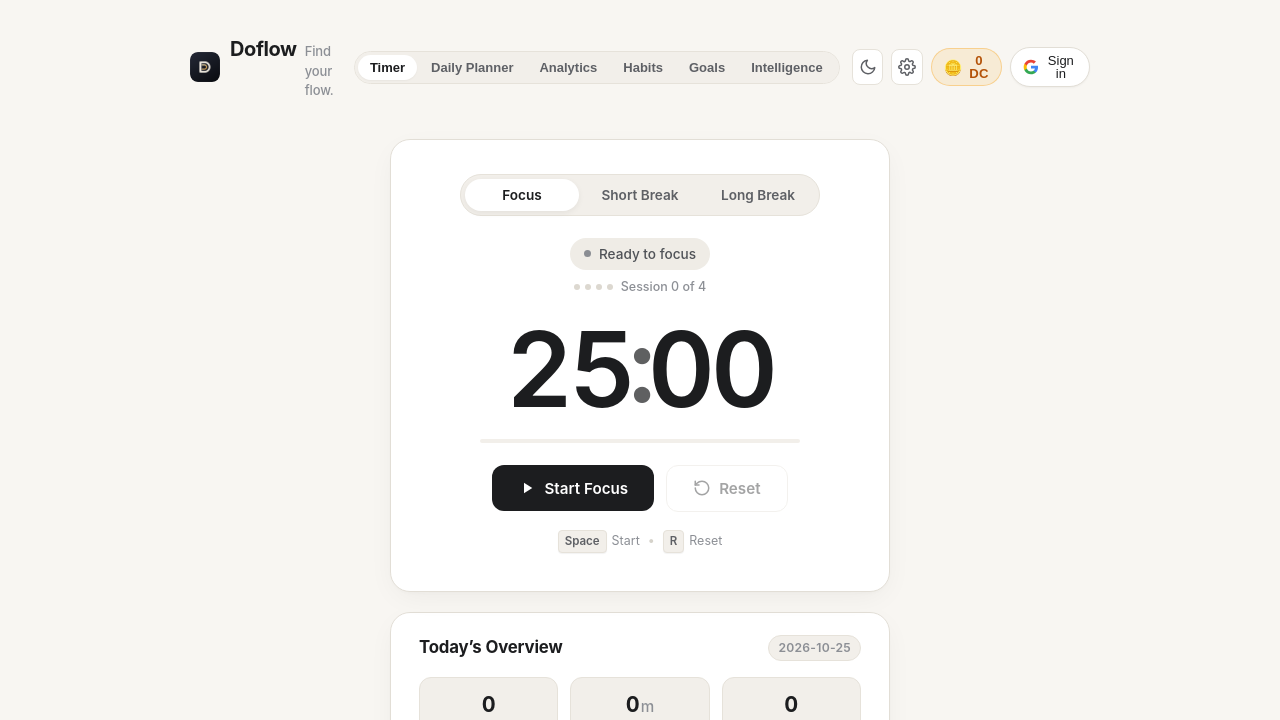
Test case: Doflow Comprehensive Integration & Regression Audit Suite › 2. verifies timer mode change confirmation prevents accidental loss during running sessions
// Start timer
Click the button with test id "start-button" at x=573, y=488, box [492,465,654,511]
Wait 5000 ms
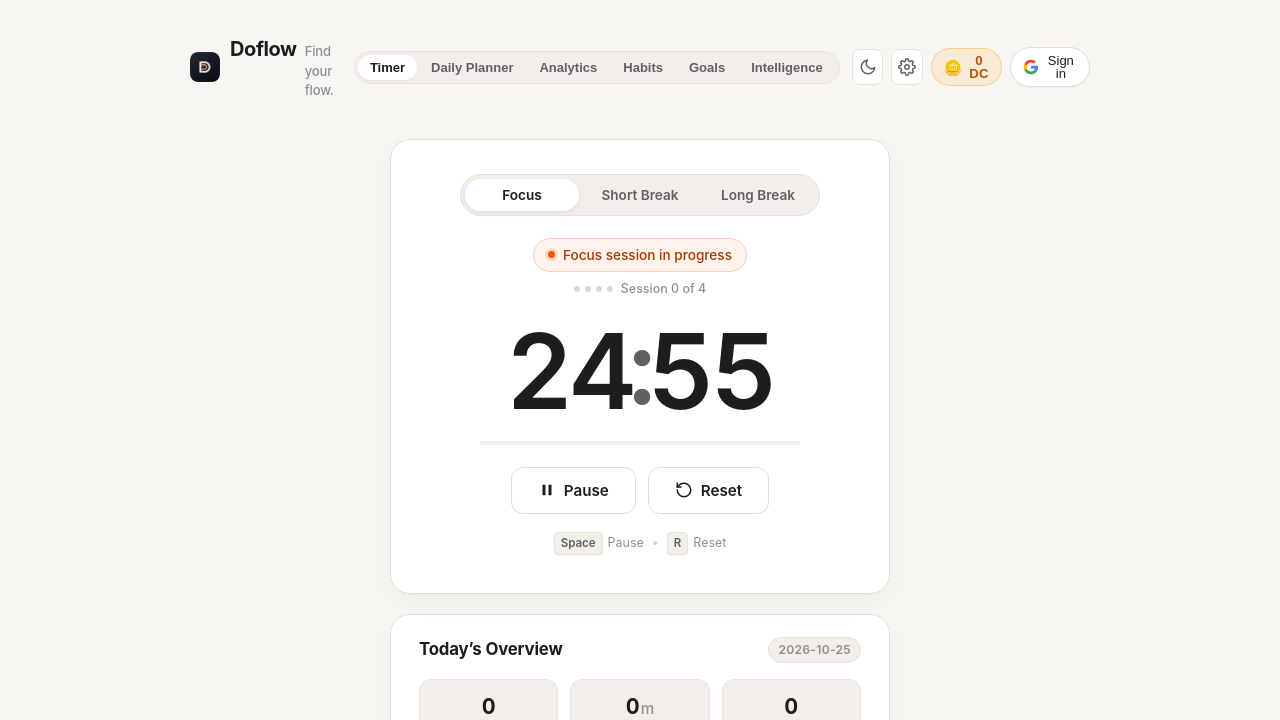
Expected: the element with test id "countdown-display" reads "24 : 55", [506,319,774,423]
// Try to switch to Short Break while running
Click the tab with test id "mode-tab-shortBreak" at x=640, y=194, box [583,178,697,210]
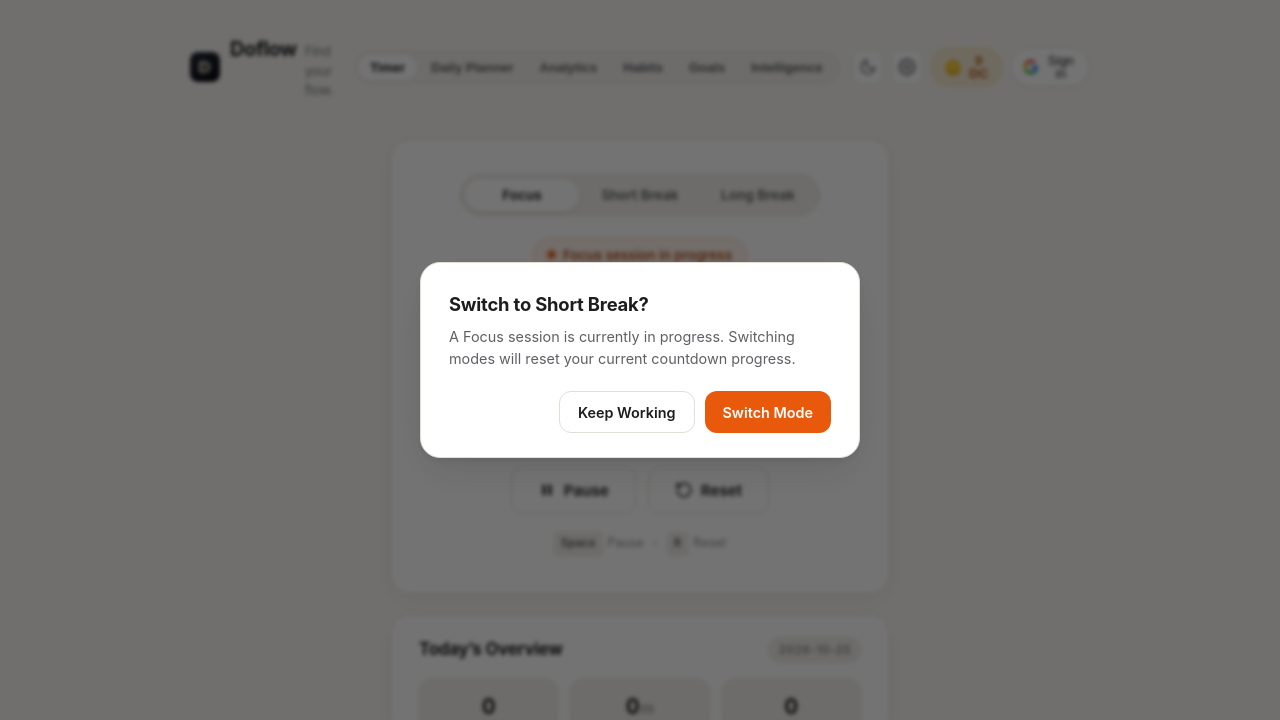
Expected: the element with test id "confirm-switch-modal" is shown
// Cancel switch - countdown continues untouched
Click the button with test id "cancel-switch-button" at x=627, y=412, box [559,391,694,433]
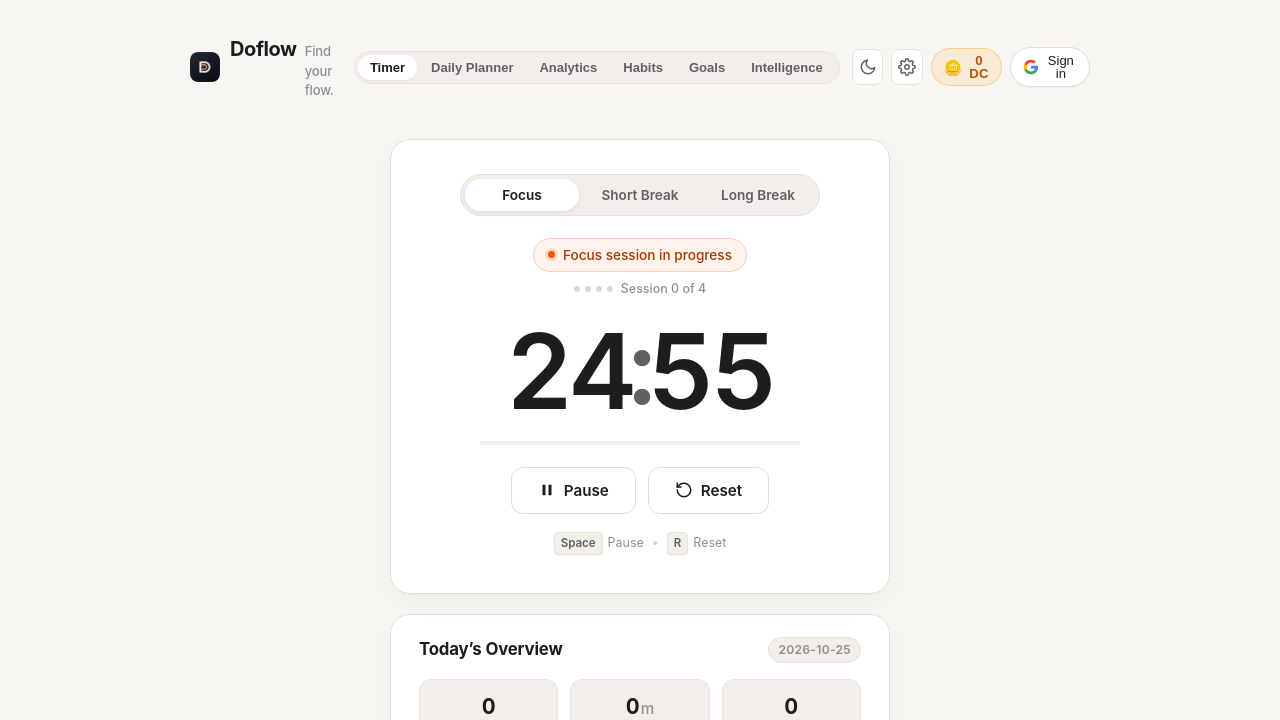
Expected: the element with test id "countdown-display" reads "24 : 55", [506,319,774,423]
Expected: the element with test id "confirm-switch-modal" is gone
// Try again and confirm switch
Click the tab with test id "mode-tab-shortBreak" at x=640, y=194, box [583,178,697,210]
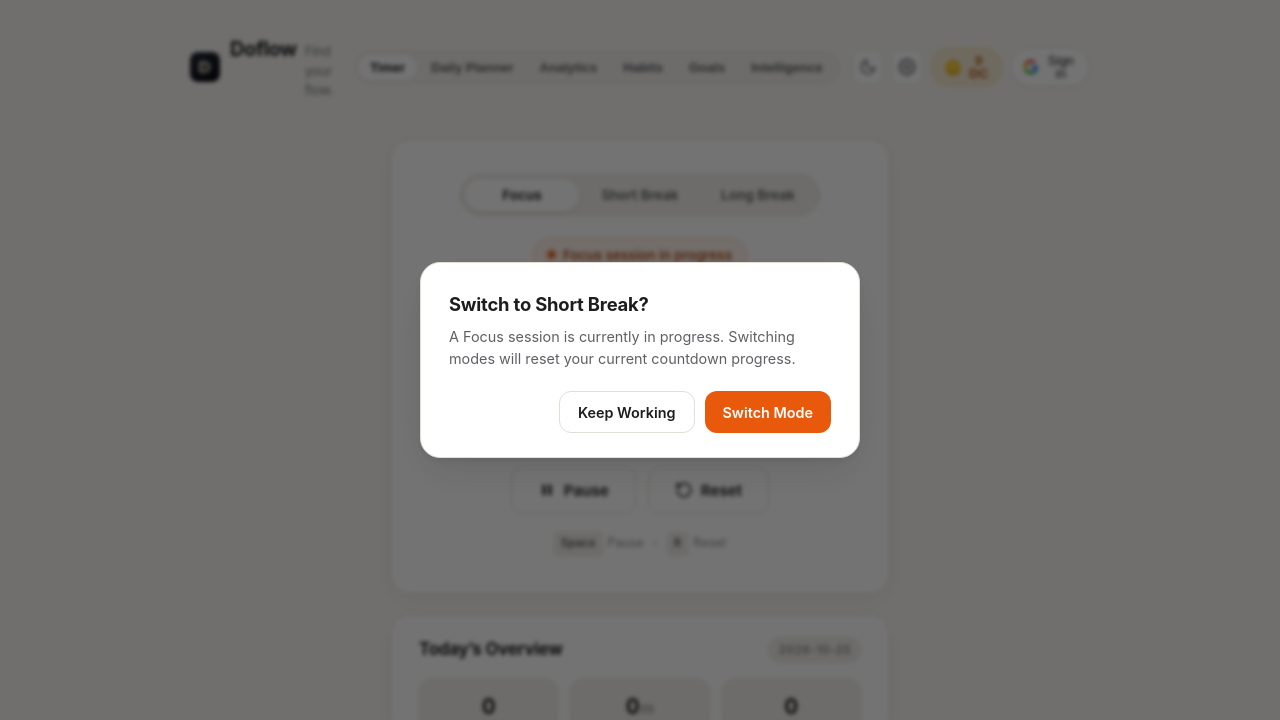
Click the button with test id "confirm-switch-button" at x=768, y=412, box [704,391,831,433]
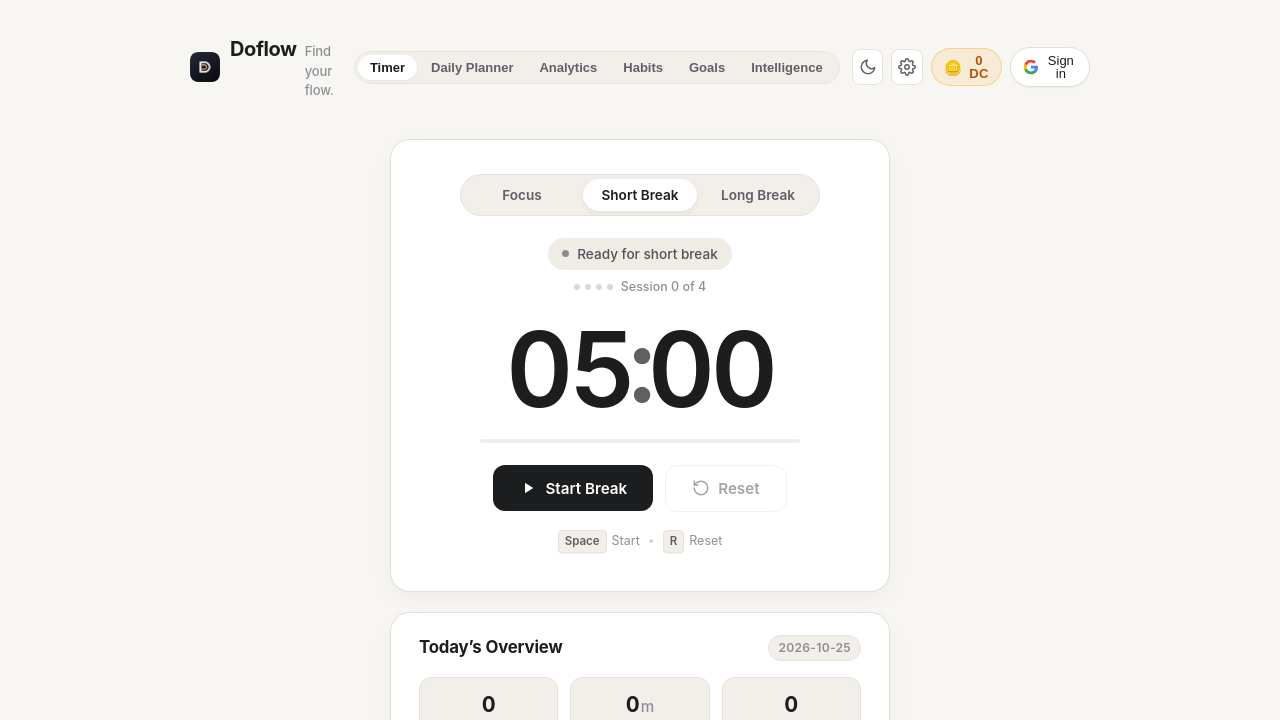
Expected: the element with test id "countdown-display" reads "05 : 00", [506,317,774,421]
